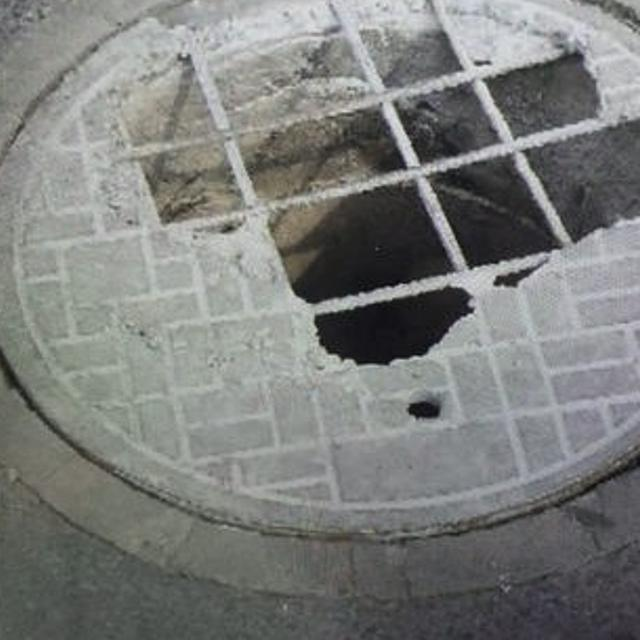broke: (0, 0, 640, 584)
